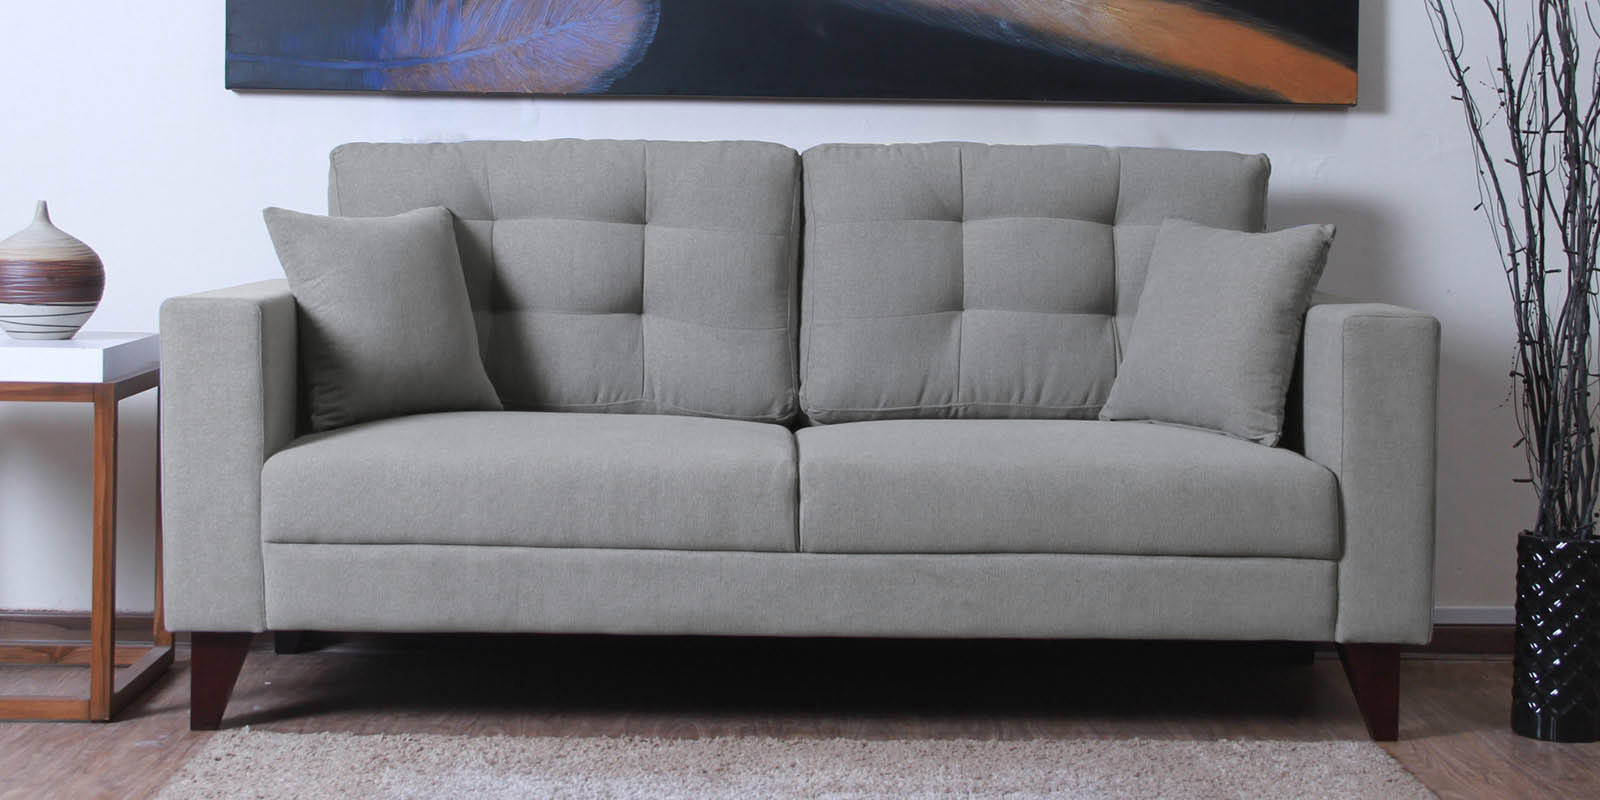Alfredo Three Seater Sofa in Ash Grey Colour by CasaCraft: (148, 120, 1458, 738)
